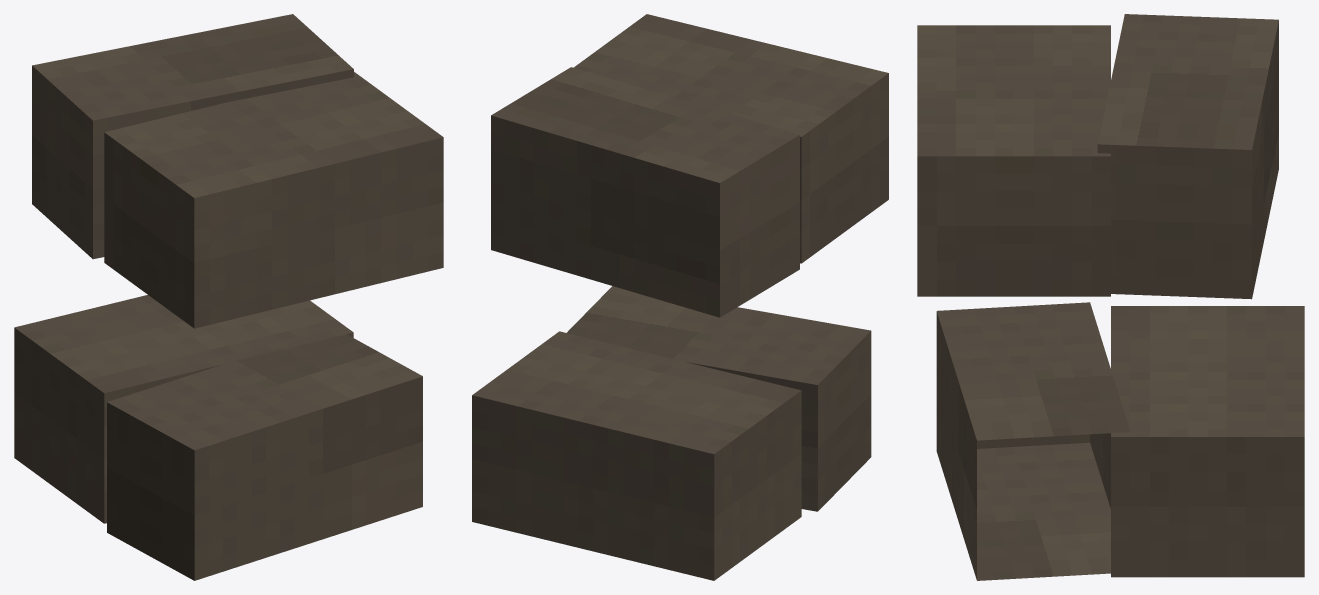
File: sandbags_left.obj
The picture shows the model from 3 angles, left to right: view 1: azimuth 30°, elevation 25°; view 2: azimuth 150°, elevation 25°; view 3: azimuth 270°, elevation 25°; orthographic projection. The views are drawn at different scales.
Visible parts, largest first — view 1: sandbag; view 2: sandbag; view 3: sandbag.
Boxes of the visible parts, bbox=[...] form: sandbag: bbox=[14, 14, 443, 580]; sandbag: bbox=[472, 14, 888, 580]; sandbag: bbox=[917, 14, 1304, 580].
Size of the model in its own units: 0.5284 by 0.7656 by 0.625.
